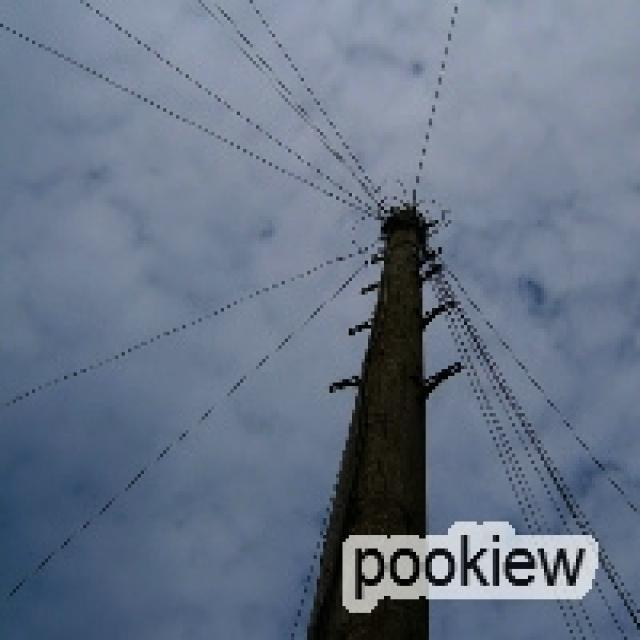crossarm: (426, 362, 464, 393), (426, 301, 454, 325), (326, 376, 358, 396), (349, 318, 374, 339), (362, 278, 378, 295)
pole: (304, 207, 429, 640)
wire: (0, 257, 371, 603), (0, 27, 387, 223), (0, 251, 368, 410), (90, 7, 362, 207), (442, 264, 640, 515), (435, 271, 595, 538), (198, 0, 365, 179), (250, 0, 374, 186), (451, 308, 531, 518), (413, 0, 461, 193)
